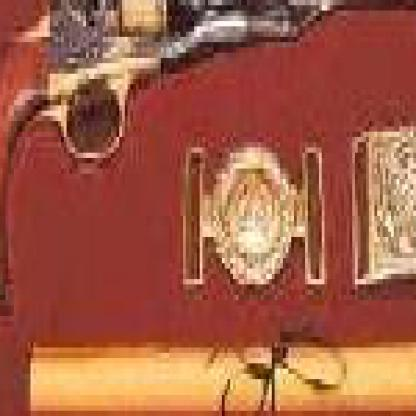gun: (0, 0, 413, 353)
